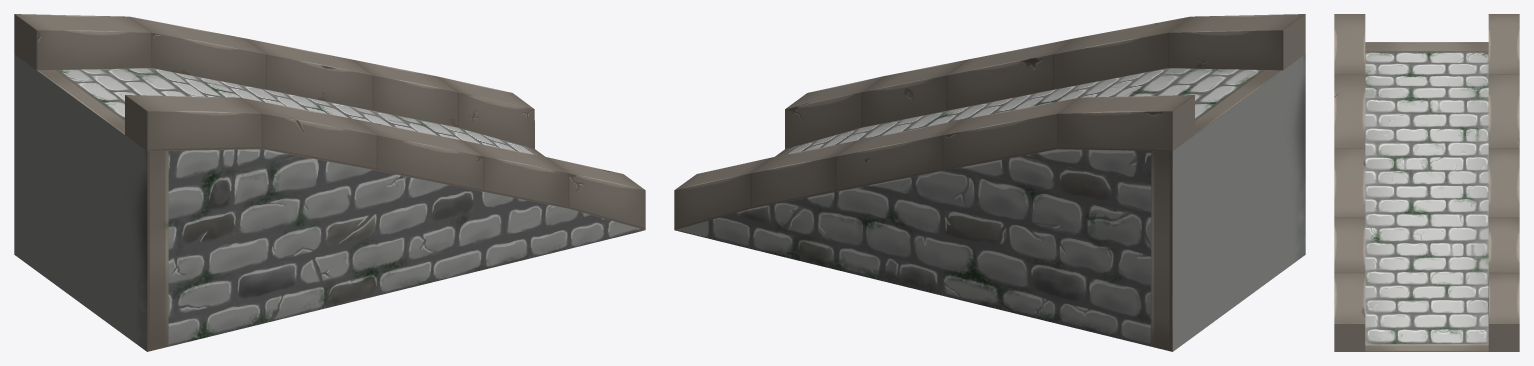
File: Bridge1V2.0.fbx
The picture shows the model from 3 angles, left to right: view 1: azimuth 30°, elevation 25°; view 2: azimuth 150°, elevation 25°; view 3: azimuth 270°, elevation 25°; orthographic projection. The views are drawn at different scales.
Visible parts, largest first — view 1: pCube67; view 2: pCube67; view 3: pCube67.
Boxes of the visible parts, x1,y1,x2,y2 form: pCube67: (14,14,645,351); pCube67: (674,14,1305,351); pCube67: (1334,14,1519,351).
Bounding box in the file's own units: 26.01 × 12 × 12.
Materials: 1 (1 with a texture image).
